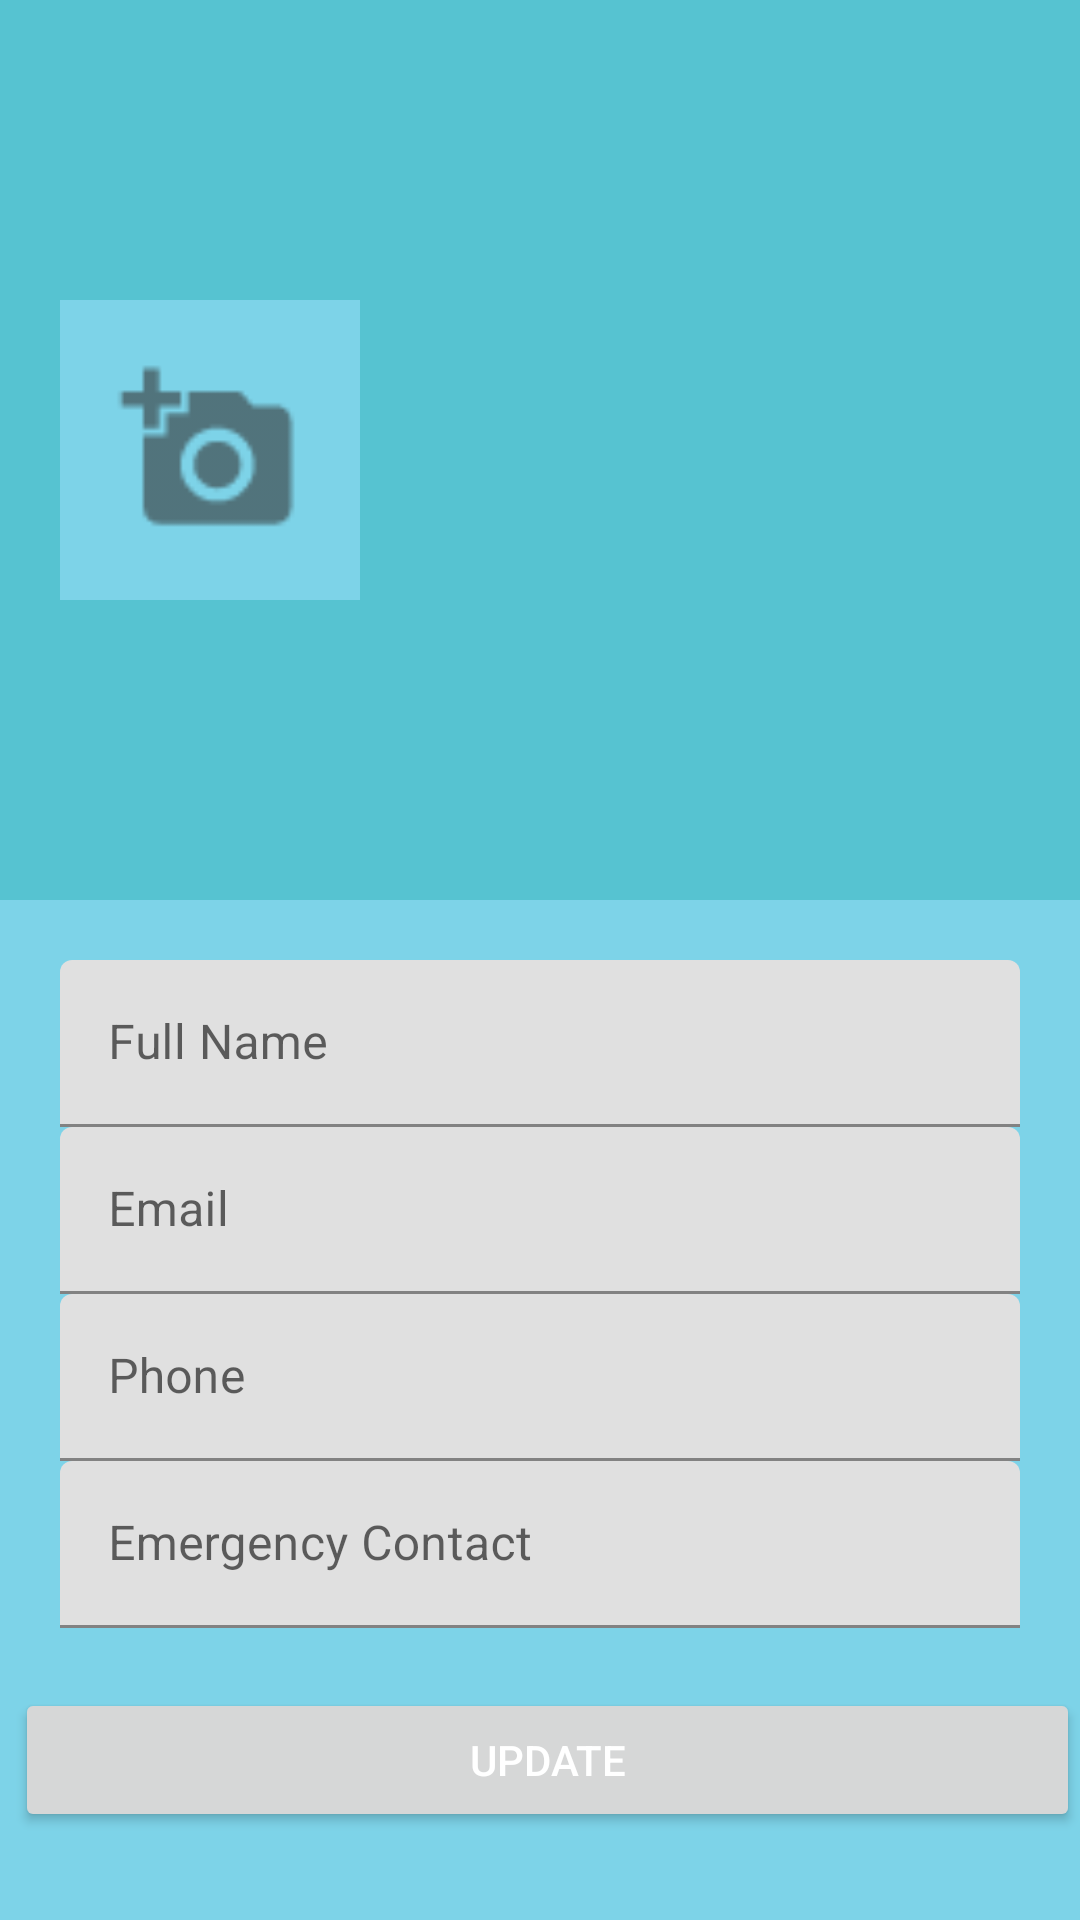

Icon click points for this 1080x1920 phone screenshot, format point (x, y):
add: point (210, 450)
